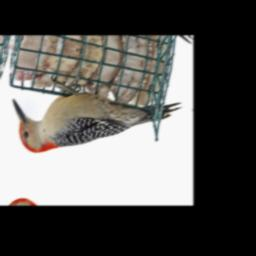Woodpecker: (2, 66, 184, 181)
